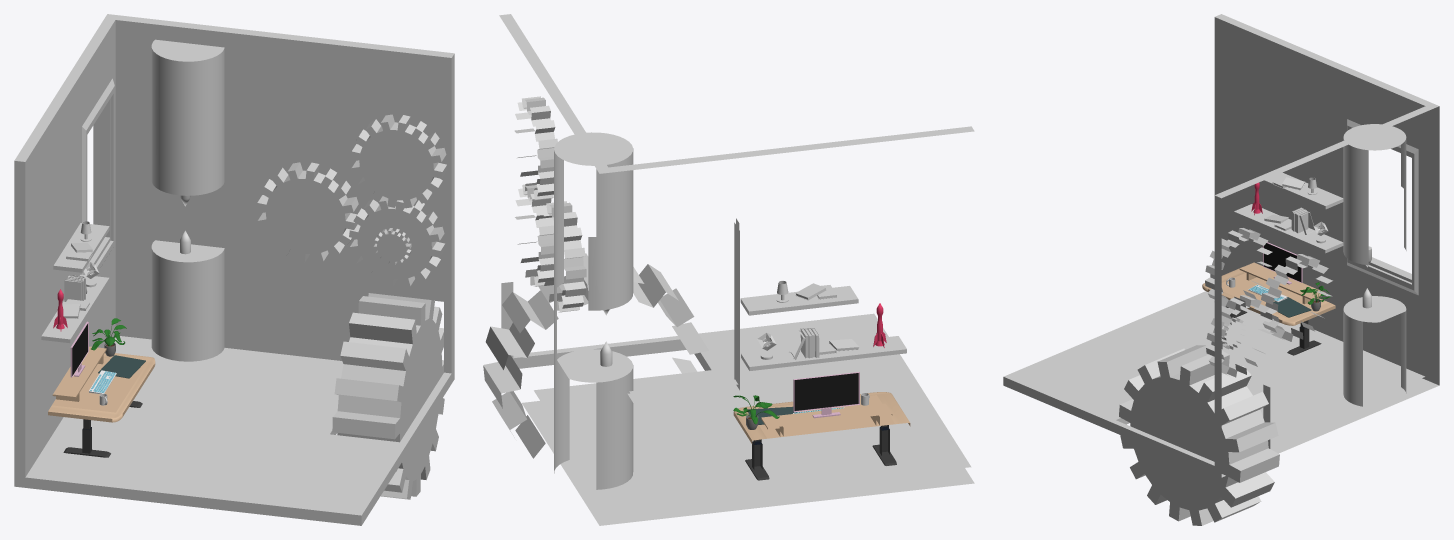
File: portfolio-roomV2.glb
3 views of the same model, side by side, from view 1: azimuth 30°, elevation 25°; view 2: azimuth 150°, elevation 25°; view 3: azimuth 270°, elevation 25° (orthographic). The views are drawn at different scales.
Visible parts, largest first — view 1: RoomWalls, Cylinder.008, Cylinder.007, Cylinder.003, Cylinder.006, Cylinder.004, Cube, Plane, Cube.053, Cube.004, Cube.059, Cylinder.005 (+1 smaller); view 2: RoomWalls, Cylinder.008, Cylinder.007, Cube, Cylinder.003, Cylinder.006, Cube.053, screen.001, Cylinder.004, Plane, Cube.059, Cube.004 (+1 smaller); view 3: RoomWalls, Cylinder.007, Cylinder.008, Cylinder.003, Plane, Cube, Cube.053, Cylinder.006, Cylinder.004, Cube.059, Cube.004, screen.001.
Boxes of the visible parts, x1,y1,x2,y2 form: RoomWalls: (14, 14, 454, 525); Cylinder.008: (151, 39, 224, 361); Cylinder.007: (332, 293, 444, 499); Cylinder.003: (256, 162, 358, 262); Cylinder.006: (351, 114, 446, 208); Cylinder.004: (349, 196, 445, 287); Cube: (48, 353, 155, 422); Plane: (82, 78, 114, 274); Cube.053: (41, 274, 109, 343); Cube.004: (52, 346, 106, 401); Cube.059: (53, 223, 109, 272); Cylinder.005: (373, 228, 411, 264); RoomWalls: (499, 14, 974, 525); Cylinder.008: (554, 132, 633, 489); Cylinder.007: (483, 253, 709, 458); Cube: (733, 392, 910, 443); Cylinder.003: (538, 201, 586, 312); Cylinder.006: (514, 96, 557, 200); Cube.053: (741, 336, 906, 370); screen.001: (794, 373, 858, 410); Cylinder.004: (515, 184, 553, 286); Plane: (627, 222, 739, 402); Cube.059: (740, 286, 858, 315); Cube.004: (761, 403, 892, 436); RoomWalls: (1003, 14, 1439, 477); Cylinder.007: (1119, 345, 1279, 525); Cylinder.008: (1343, 124, 1406, 406); Cylinder.003: (1260, 254, 1332, 341); Plane: (1347, 119, 1418, 295); Cube: (1202, 267, 1335, 325); Cube.053: (1234, 204, 1343, 253); Cylinder.006: (1205, 228, 1272, 309); Cylinder.004: (1206, 295, 1273, 377); Cube.059: (1262, 172, 1343, 209); Cube.004: (1239, 262, 1325, 304); screen.001: (1264, 243, 1301, 281).
Bounding box in the file's own units: 13.97 × 12.21 × 13.86.
